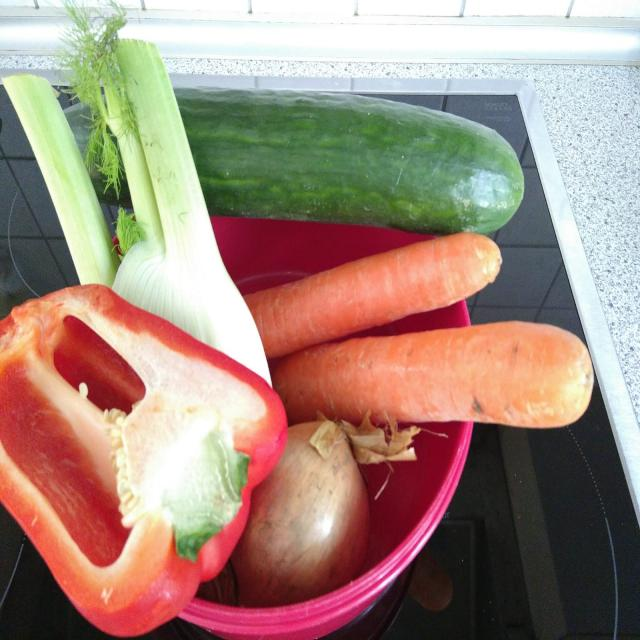Carrot: (266, 322, 594, 431), (238, 228, 501, 361)
Cucumber: (87, 84, 526, 236)
Onion: (207, 409, 426, 608)
